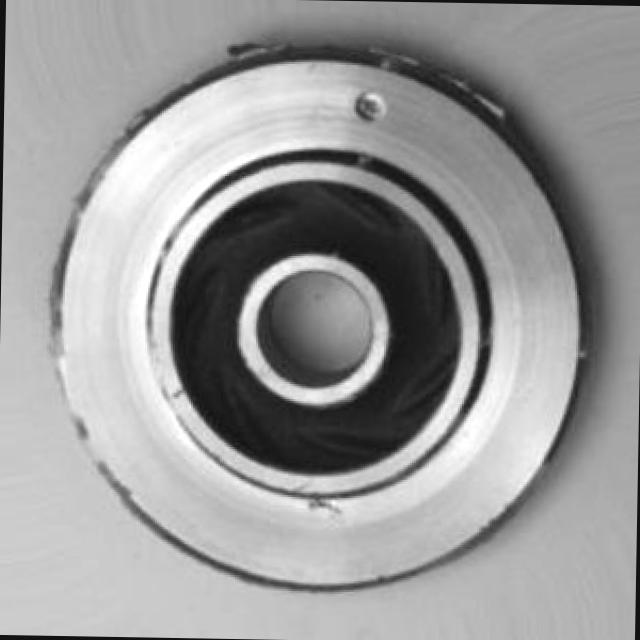Defect: (347, 89, 390, 131)
